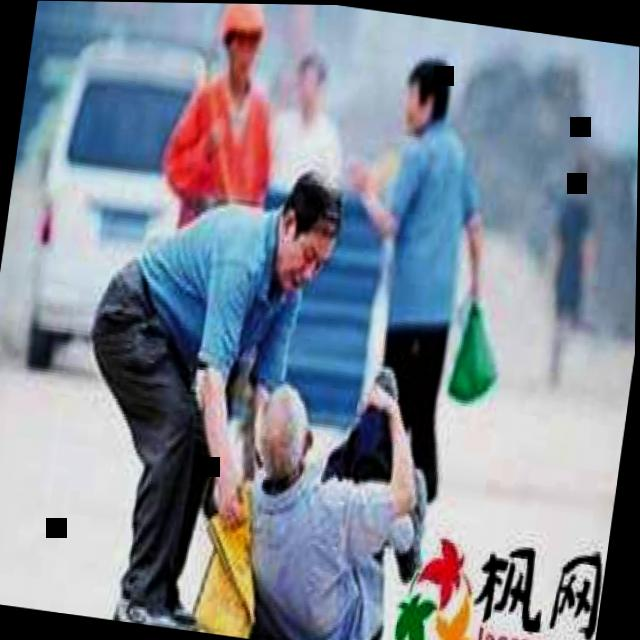Fall-Detected: (198, 329, 477, 640)
